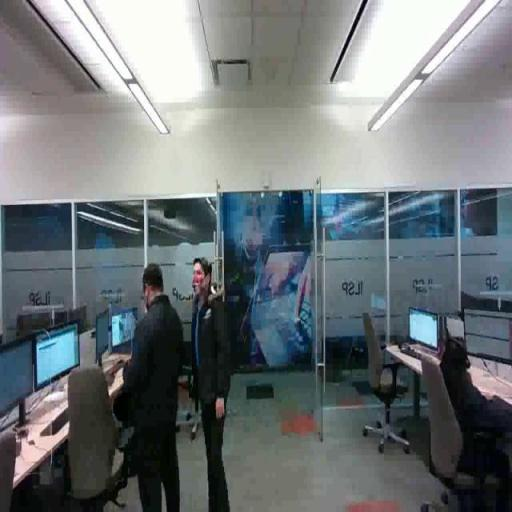person: (421, 323, 512, 491), (126, 262, 185, 512), (189, 252, 234, 512)
